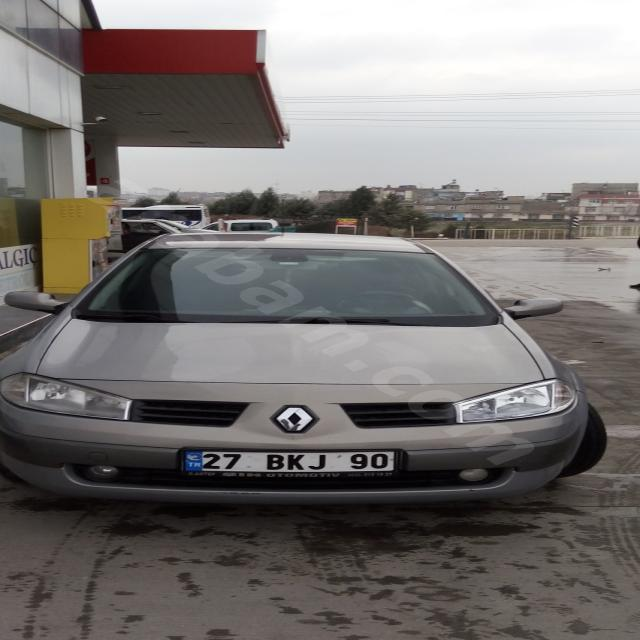license_plate: (182, 451, 399, 472)
